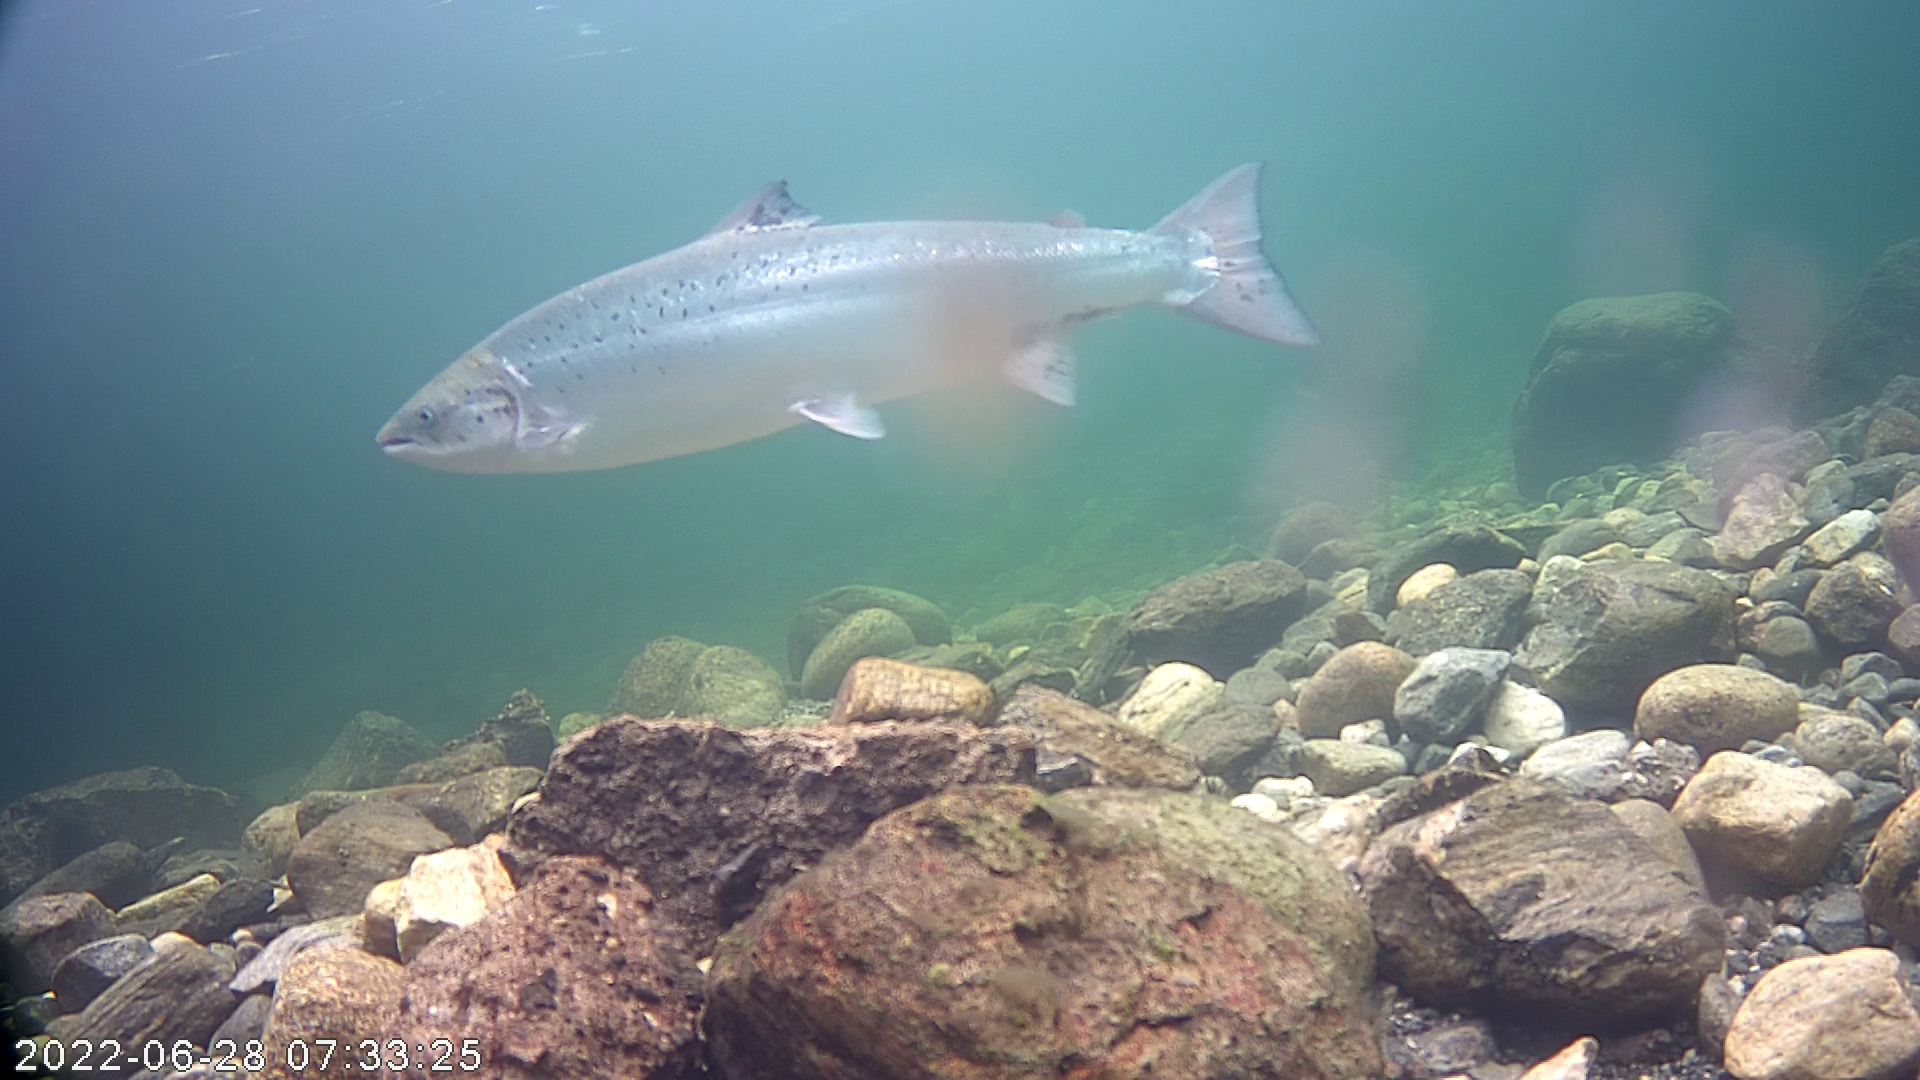salmon: (367, 116, 1360, 512)
